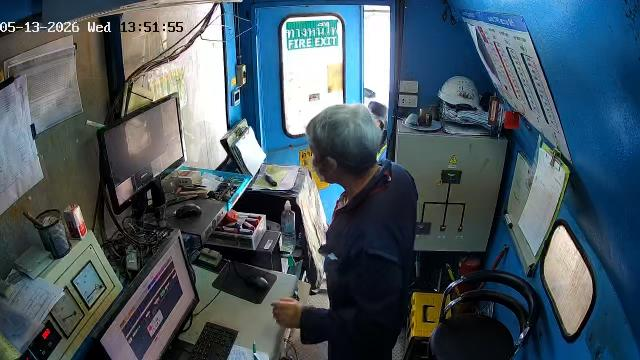Head: (306, 105, 381, 184)
People: (273, 105, 417, 359)
